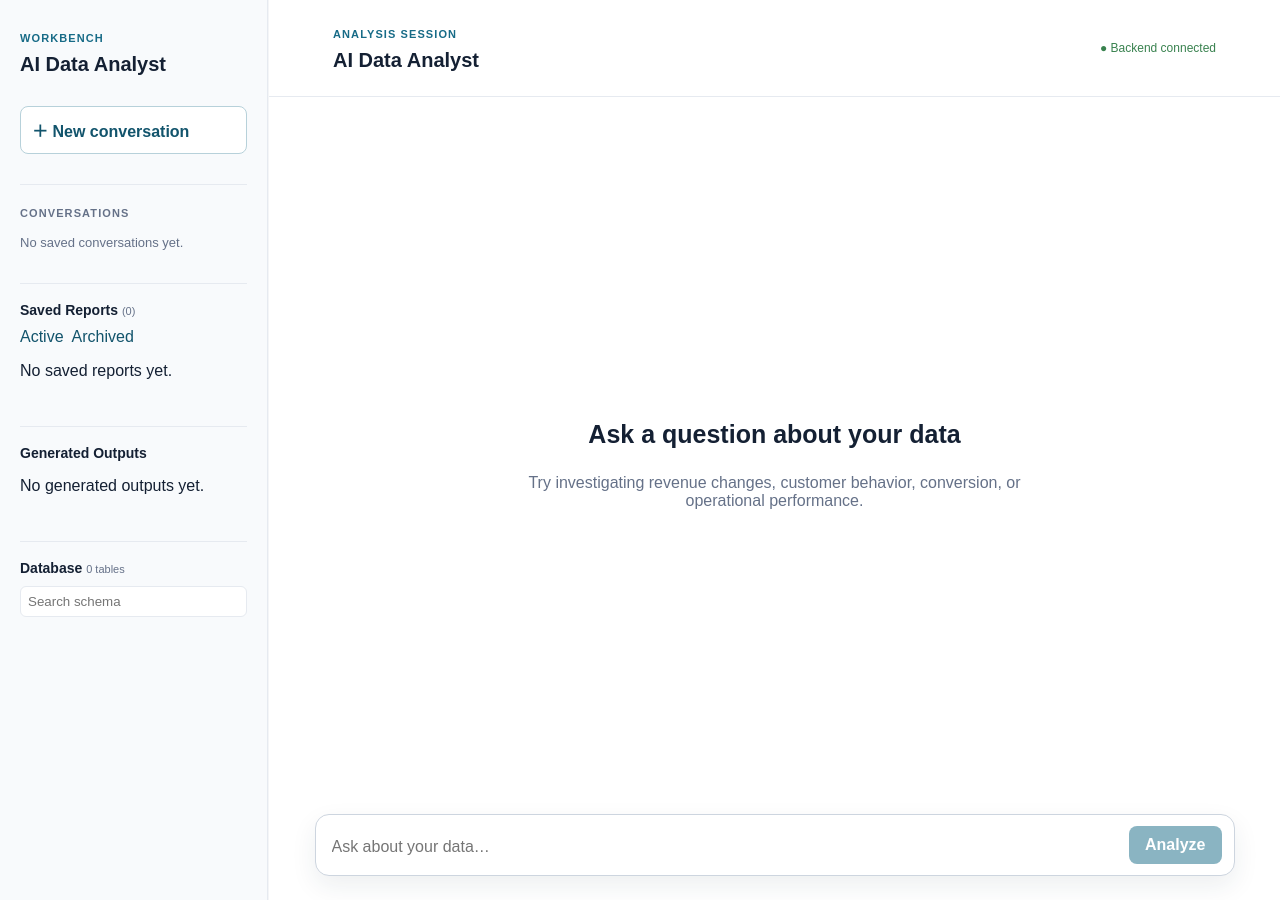
Workbench › shows the evidence an answer cites beneath it
Step 1. Type "Analyze revenue" into the text box labelled "Ask about your data" → (724, 846), box [332,829,1117,864]
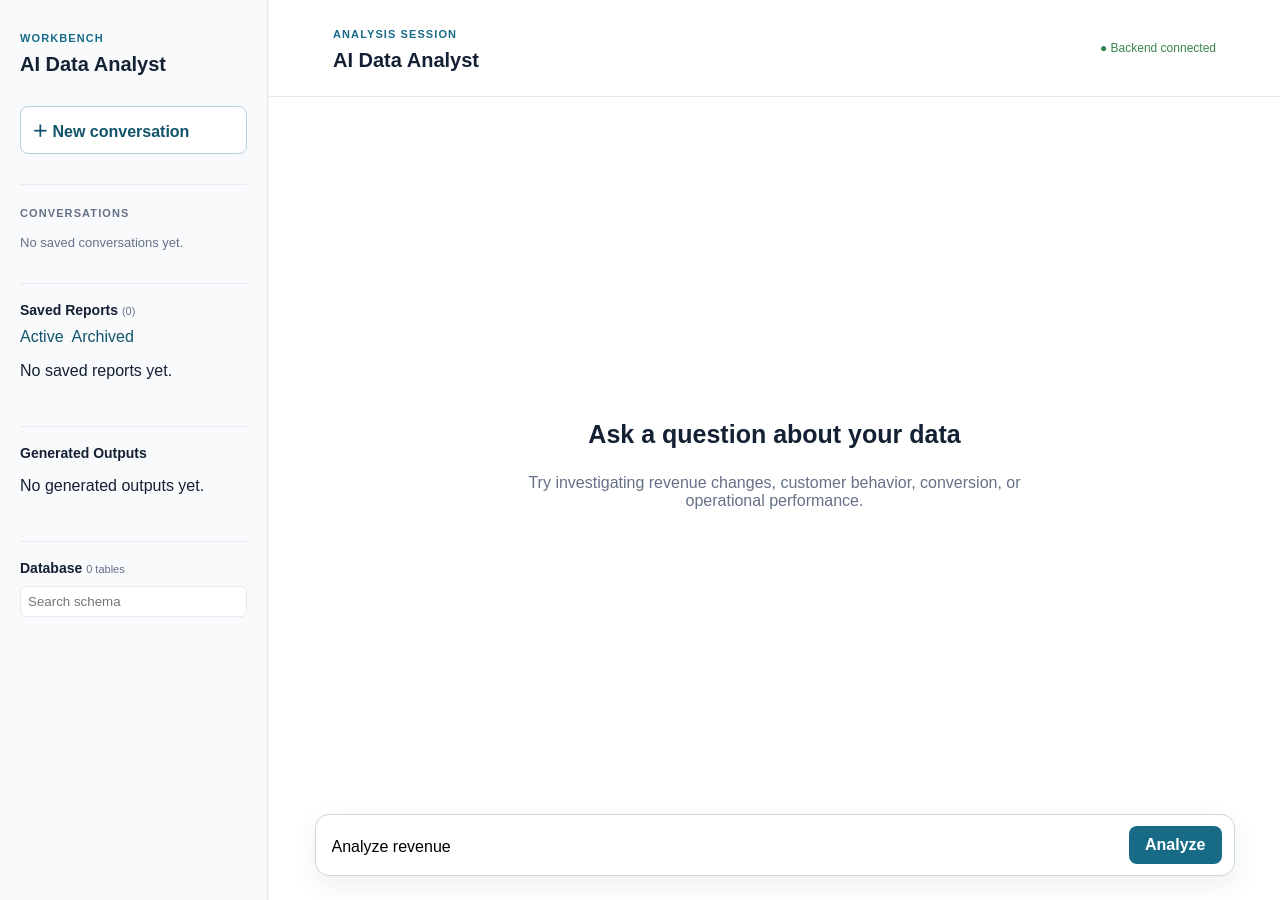
Step 2. Click the button "Analyze" → (1175, 845), box [1129,826,1222,864]
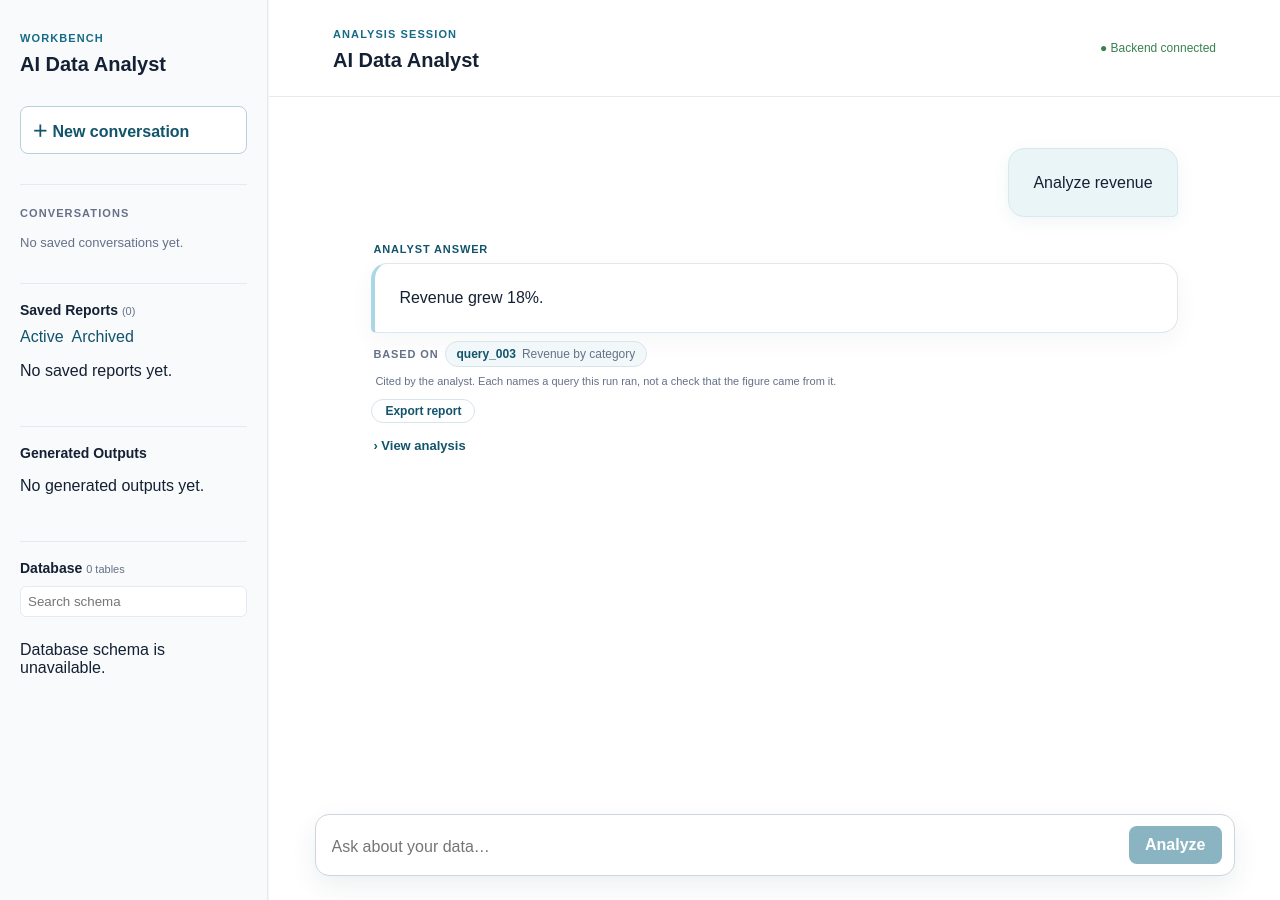
Expected: the text "Revenue grew 18%." is shown, [399,289,544,306]
Expected: the text "query_003" is shown, [456,345,516,363]
Expected: the text "Revenue by category" is shown, [522,345,635,363]
